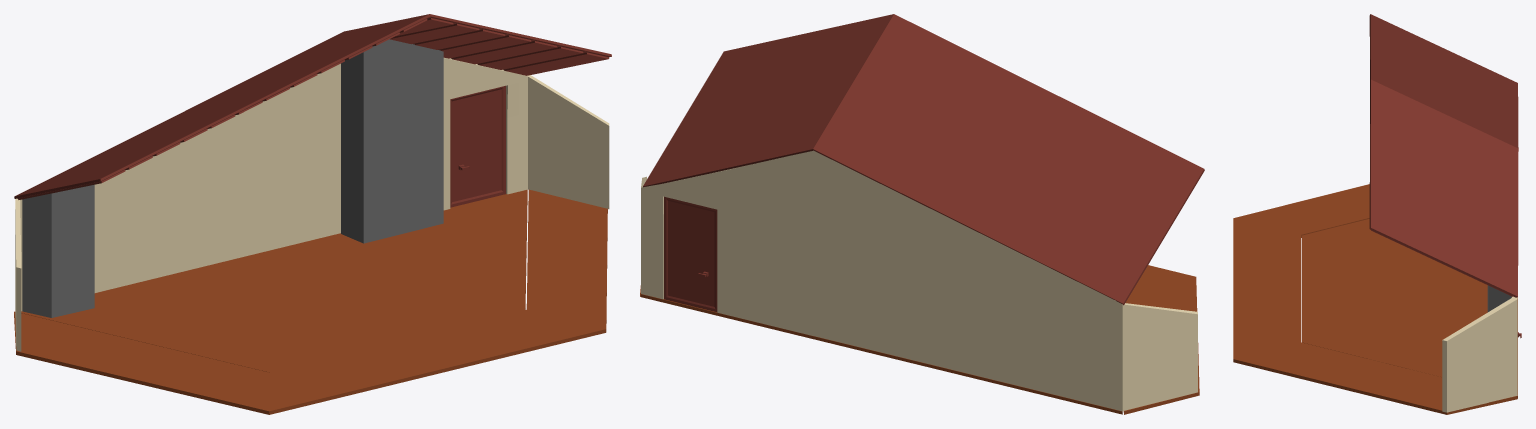
The model's file is MDL_Office_01.fbx.
3 renders of one model, left to right at view 1: azimuth 30°, elevation 25°; view 2: azimuth 150°, elevation 25°; view 3: azimuth 270°, elevation 25°, orthographic. The views are drawn at different scales.
Parts seen in each view (by area): view 1: MDL_Office_Wall_01.001, MDL_Office_Floor, MDL_Office_Ex, MDL_Office_Concrete_02, MDL_Office_Roof, MDL_Office_Concrete_01, MDL_Office_Door; view 2: MDL_Office_Roof, MDL_Office_Wall_01.001, MDL_Office_Door, MDL_Office_Ex, MDL_Office_Floor; view 3: MDL_Office_Roof, MDL_Office_Floor, MDL_Office_Ex, MDL_Office_Wall_01.001, MDL_Office_Concrete_02.
Part boxes in pixels (box(x1,y1,x2,y2)): MDL_Office_Wall_01.001: box(15, 57, 609, 351); MDL_Office_Floor: box(21, 189, 527, 372); MDL_Office_Ex: box(14, 189, 607, 414); MDL_Office_Concrete_02: box(341, 39, 443, 243); MDL_Office_Roof: box(14, 14, 611, 199); MDL_Office_Concrete_01: box(22, 184, 94, 317); MDL_Office_Door: box(450, 85, 505, 207); MDL_Office_Roof: box(643, 14, 1204, 305); MDL_Office_Wall_01.001: box(641, 150, 1197, 411); MDL_Office_Door: box(664, 196, 717, 311); MDL_Office_Ex: box(640, 265, 1199, 414); MDL_Office_Floor: box(641, 294, 1122, 414); MDL_Office_Roof: box(1369, 14, 1518, 297); MDL_Office_Floor: box(1302, 219, 1517, 398); MDL_Office_Ex: box(1233, 184, 1517, 414); MDL_Office_Wall_01.001: box(1442, 296, 1517, 412); MDL_Office_Concrete_02: box(1487, 285, 1511, 312).
Bounding box in the file's own units: 1200 × 548 × 590.
